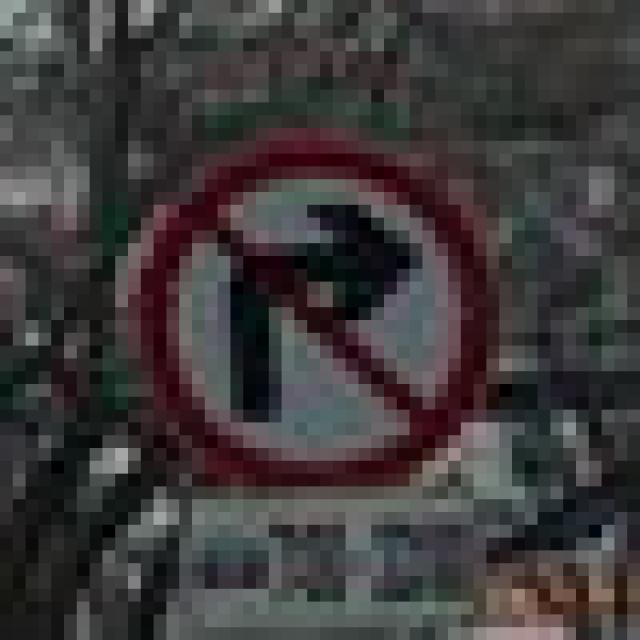right turn prohibited: (131, 125, 496, 493)
